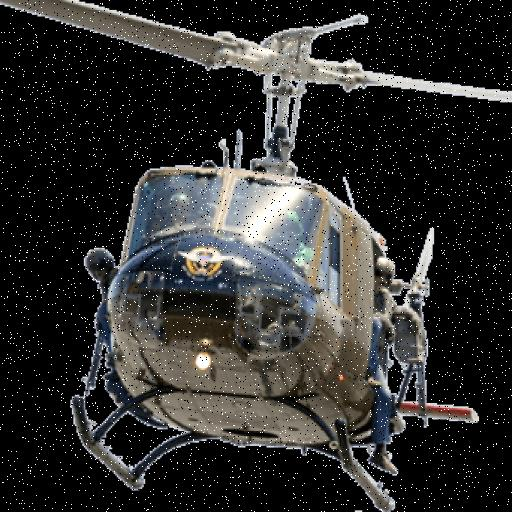helicopter: (6, 1, 506, 505)
